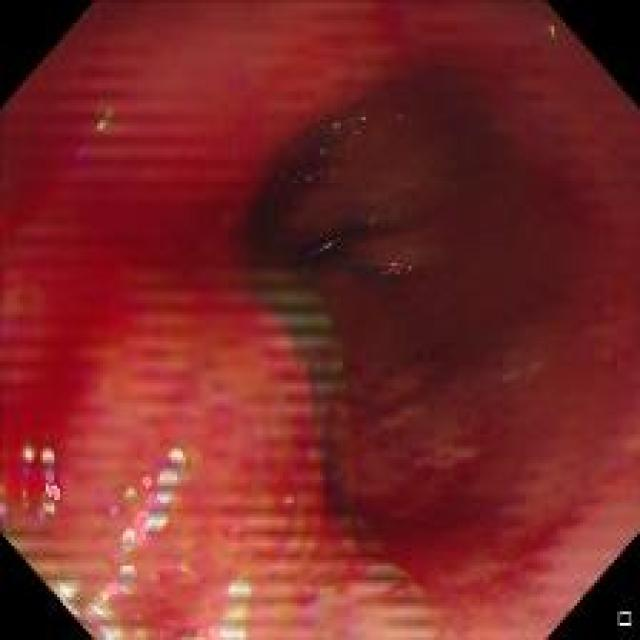blood: (338, 412, 526, 615)
color misalignment: (10, 288, 436, 635), (248, 268, 346, 464), (109, 438, 196, 559), (50, 560, 171, 638), (289, 110, 374, 191), (12, 438, 76, 526), (215, 569, 252, 638), (375, 245, 414, 285), (91, 105, 121, 132), (366, 212, 410, 229), (309, 232, 349, 250), (71, 141, 98, 165), (539, 16, 560, 44)
